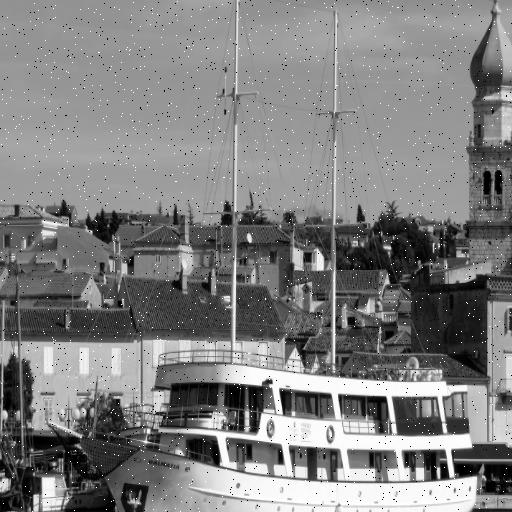cruises: (48, 330, 484, 512)
